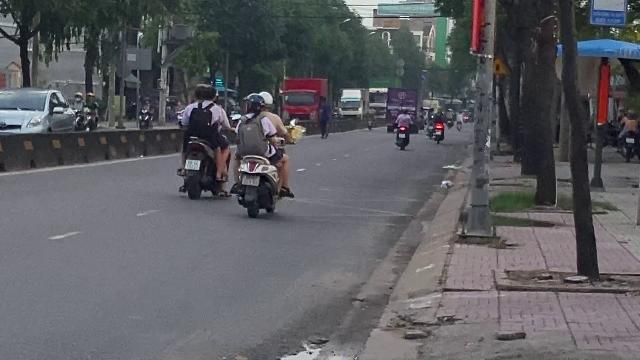helmet: (243, 92, 263, 114), (257, 91, 273, 107)
licenseplate: (242, 174, 258, 184), (186, 160, 200, 170)
motorcyclist: (230, 90, 294, 218), (174, 82, 233, 200)
nohelmet: (192, 84, 215, 103)
